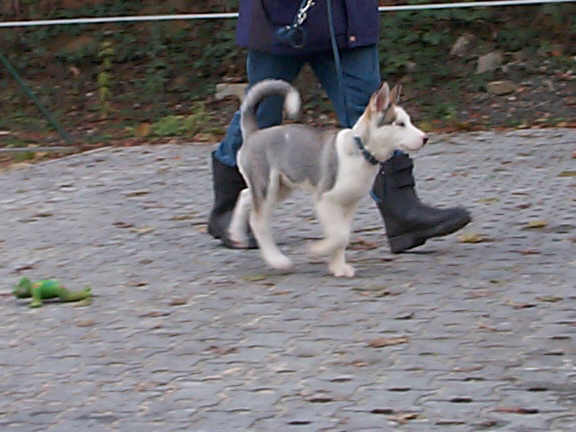dog: (226, 77, 431, 279)
